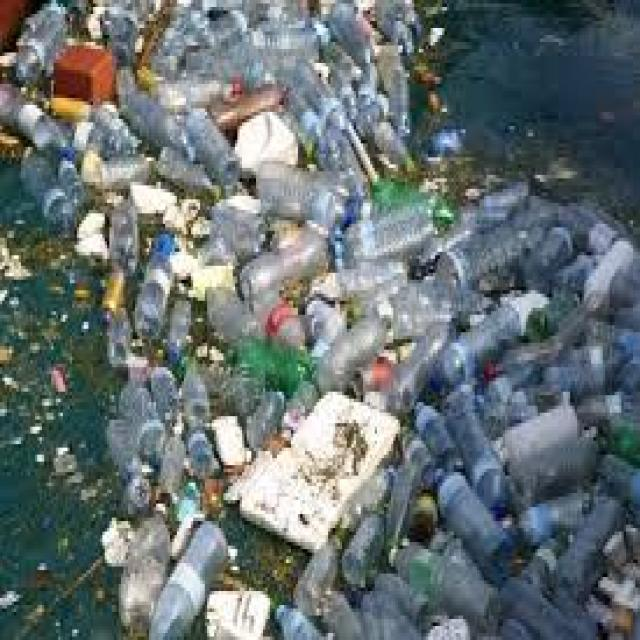plastic_bag: (146, 239, 637, 616)
